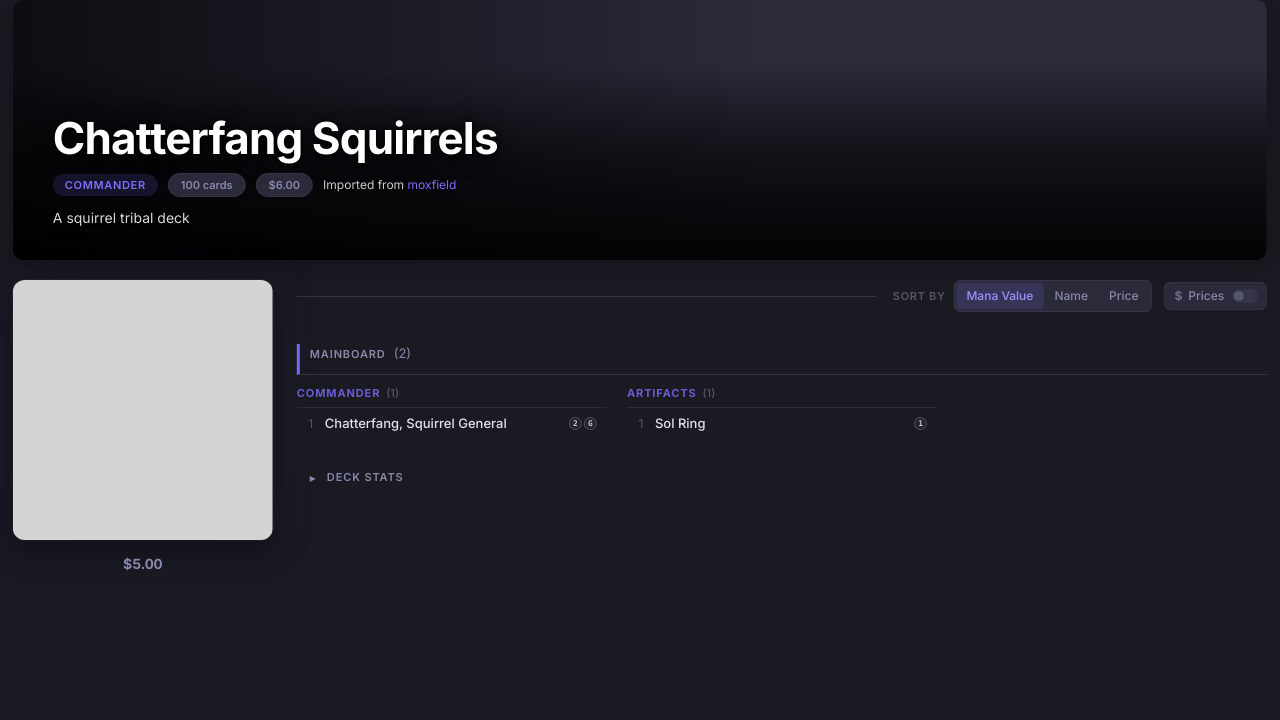
Test: DeckPage › renders deck stats
The width and height of the screenshot is (1280, 720).
# Deck stats collapsed by default — expand to see content
Click the text "Deck Stats" at (365, 478), box [327,469,404,486]
(page scrolled)
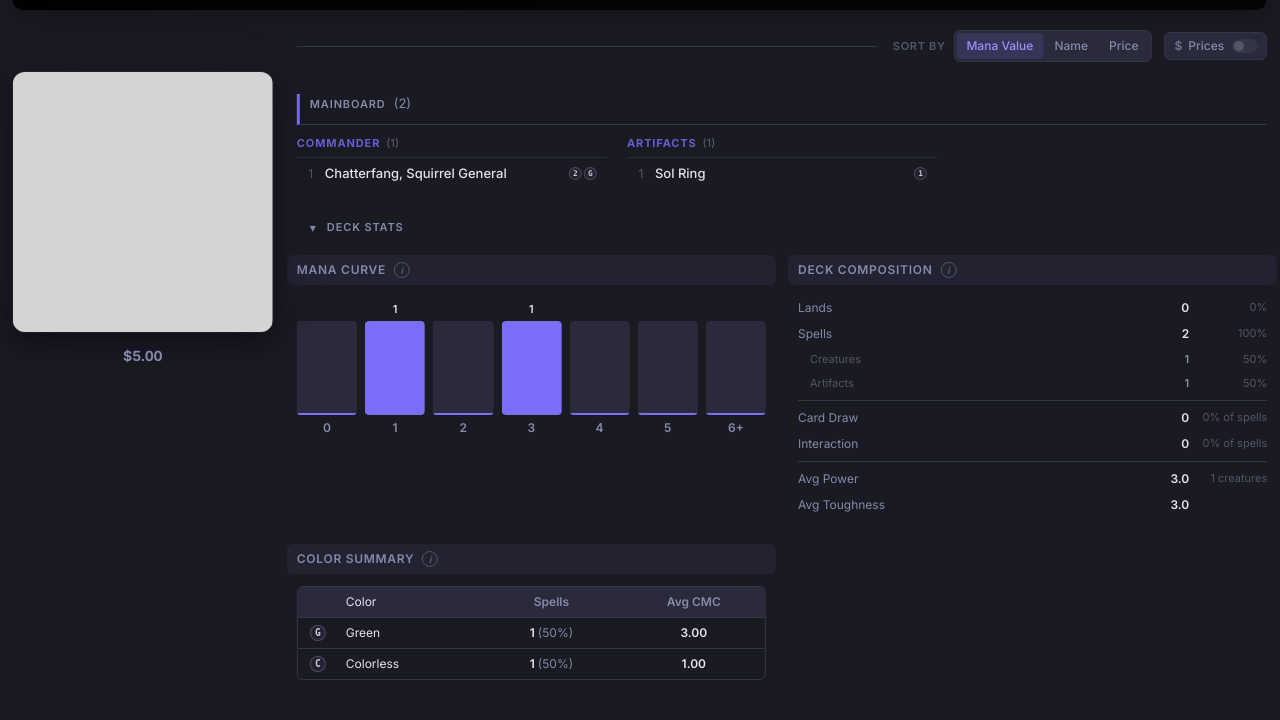
Check: the text "Color Summary i" is shown, box [287,544,776,574]
